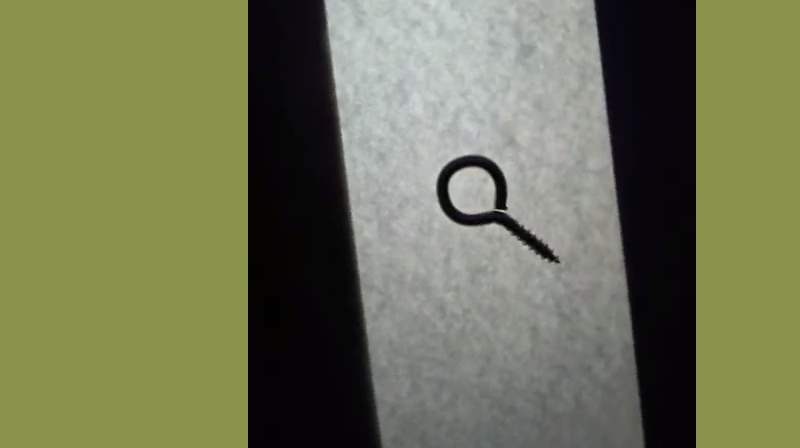O001: (432, 150, 566, 266)
